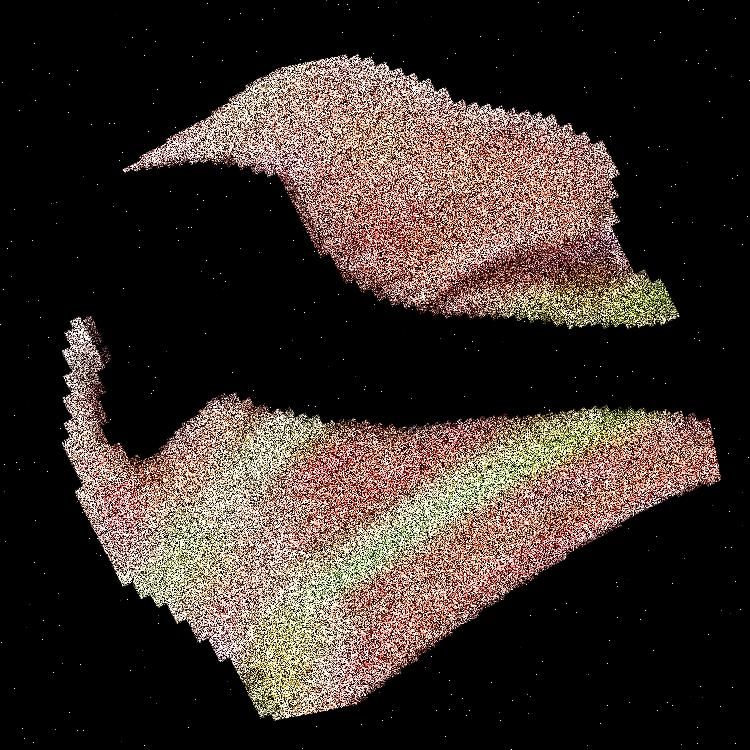Colete: (362, 0, 569, 708)
